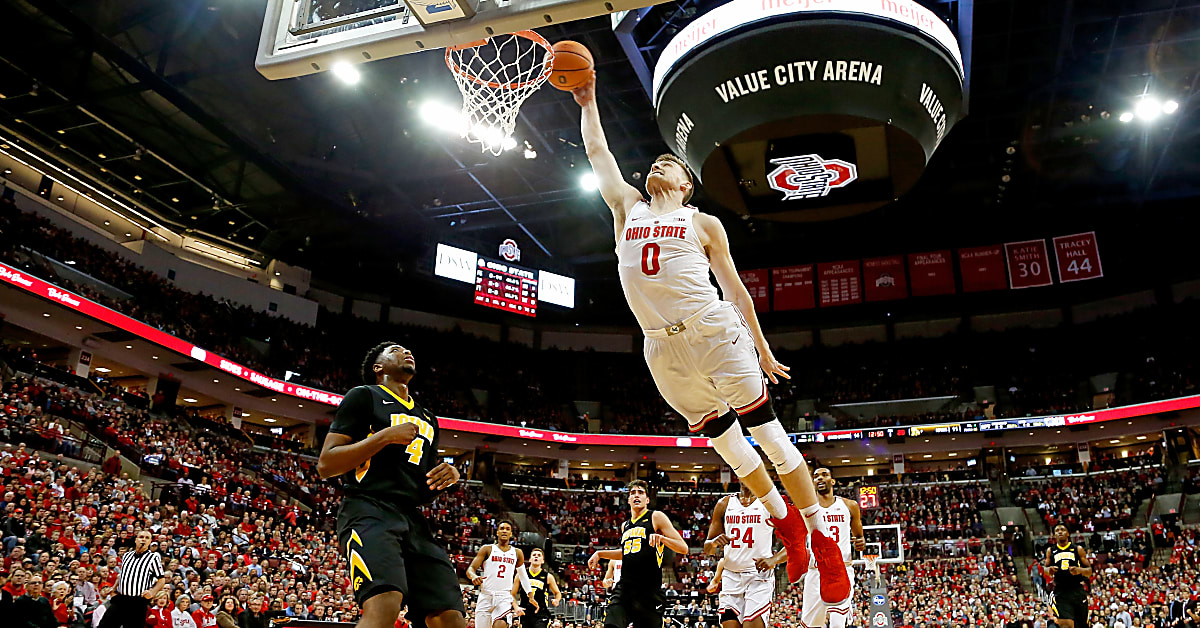ball: (536, 37, 605, 100)
basket: (441, 19, 554, 155)
shoot: (532, 33, 863, 624)
stand: (317, 331, 499, 628)
